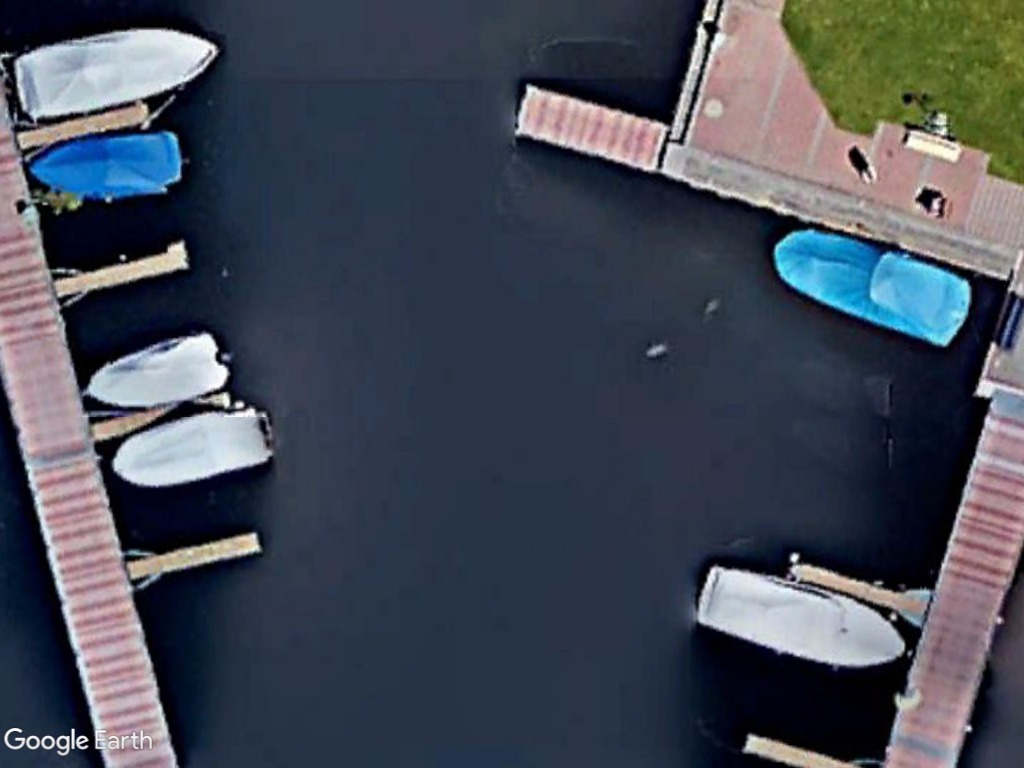boat: (770, 221, 974, 350), (690, 563, 912, 676), (11, 21, 221, 123), (107, 397, 268, 491), (26, 126, 190, 207), (82, 326, 230, 411)
